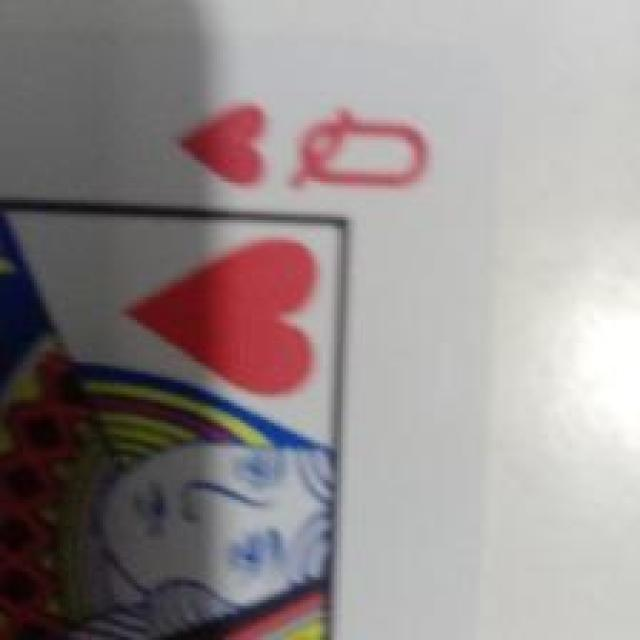Queen of hearts: (0, 43, 514, 640)
